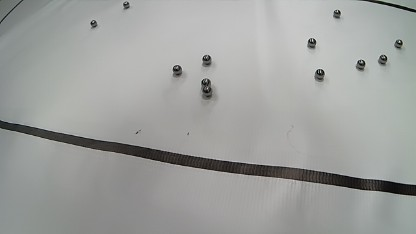ironball: (314, 68, 325, 79), (202, 85, 212, 96), (172, 65, 182, 75), (202, 54, 211, 65), (378, 54, 387, 65), (200, 78, 211, 87), (356, 59, 365, 69), (307, 38, 316, 48), (394, 39, 403, 48), (333, 9, 341, 18), (90, 20, 97, 27), (123, 1, 130, 8)
